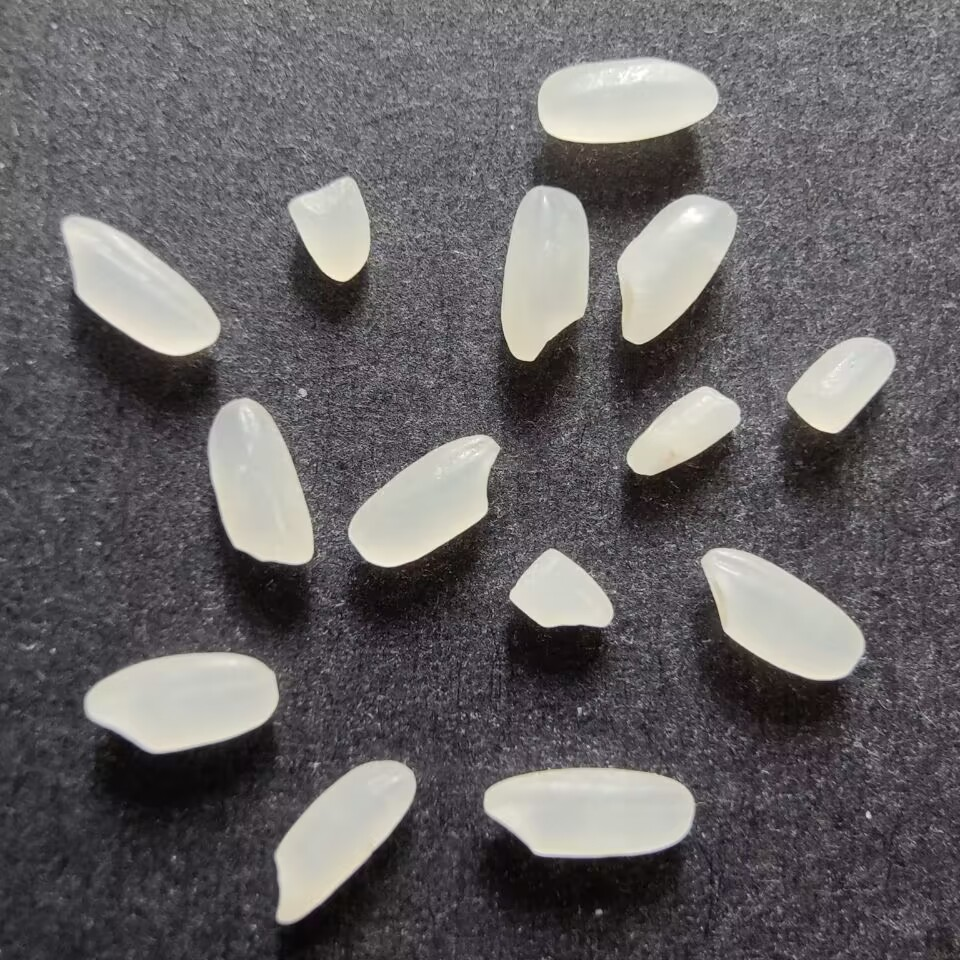broken: (778, 331, 896, 436), (622, 381, 745, 480), (282, 174, 375, 286), (505, 545, 614, 633)
rice: (266, 756, 418, 930), (54, 212, 226, 357), (697, 541, 869, 685), (76, 648, 279, 759), (344, 428, 500, 570), (474, 765, 702, 862), (201, 393, 318, 569), (613, 193, 741, 349), (530, 52, 726, 146), (497, 182, 595, 365)
